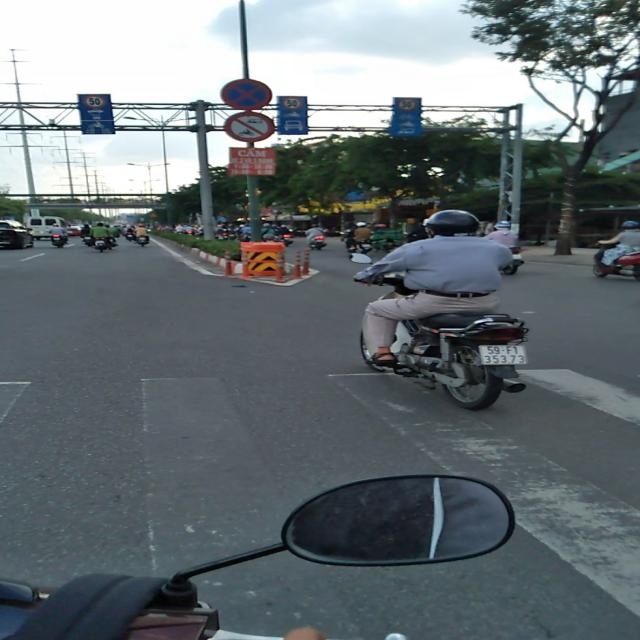Cam con lai: (220, 111, 275, 143)
Cam dung va do: (220, 78, 274, 110)
Toc do toi da: (83, 95, 106, 108), (282, 98, 302, 110), (397, 98, 416, 110)
